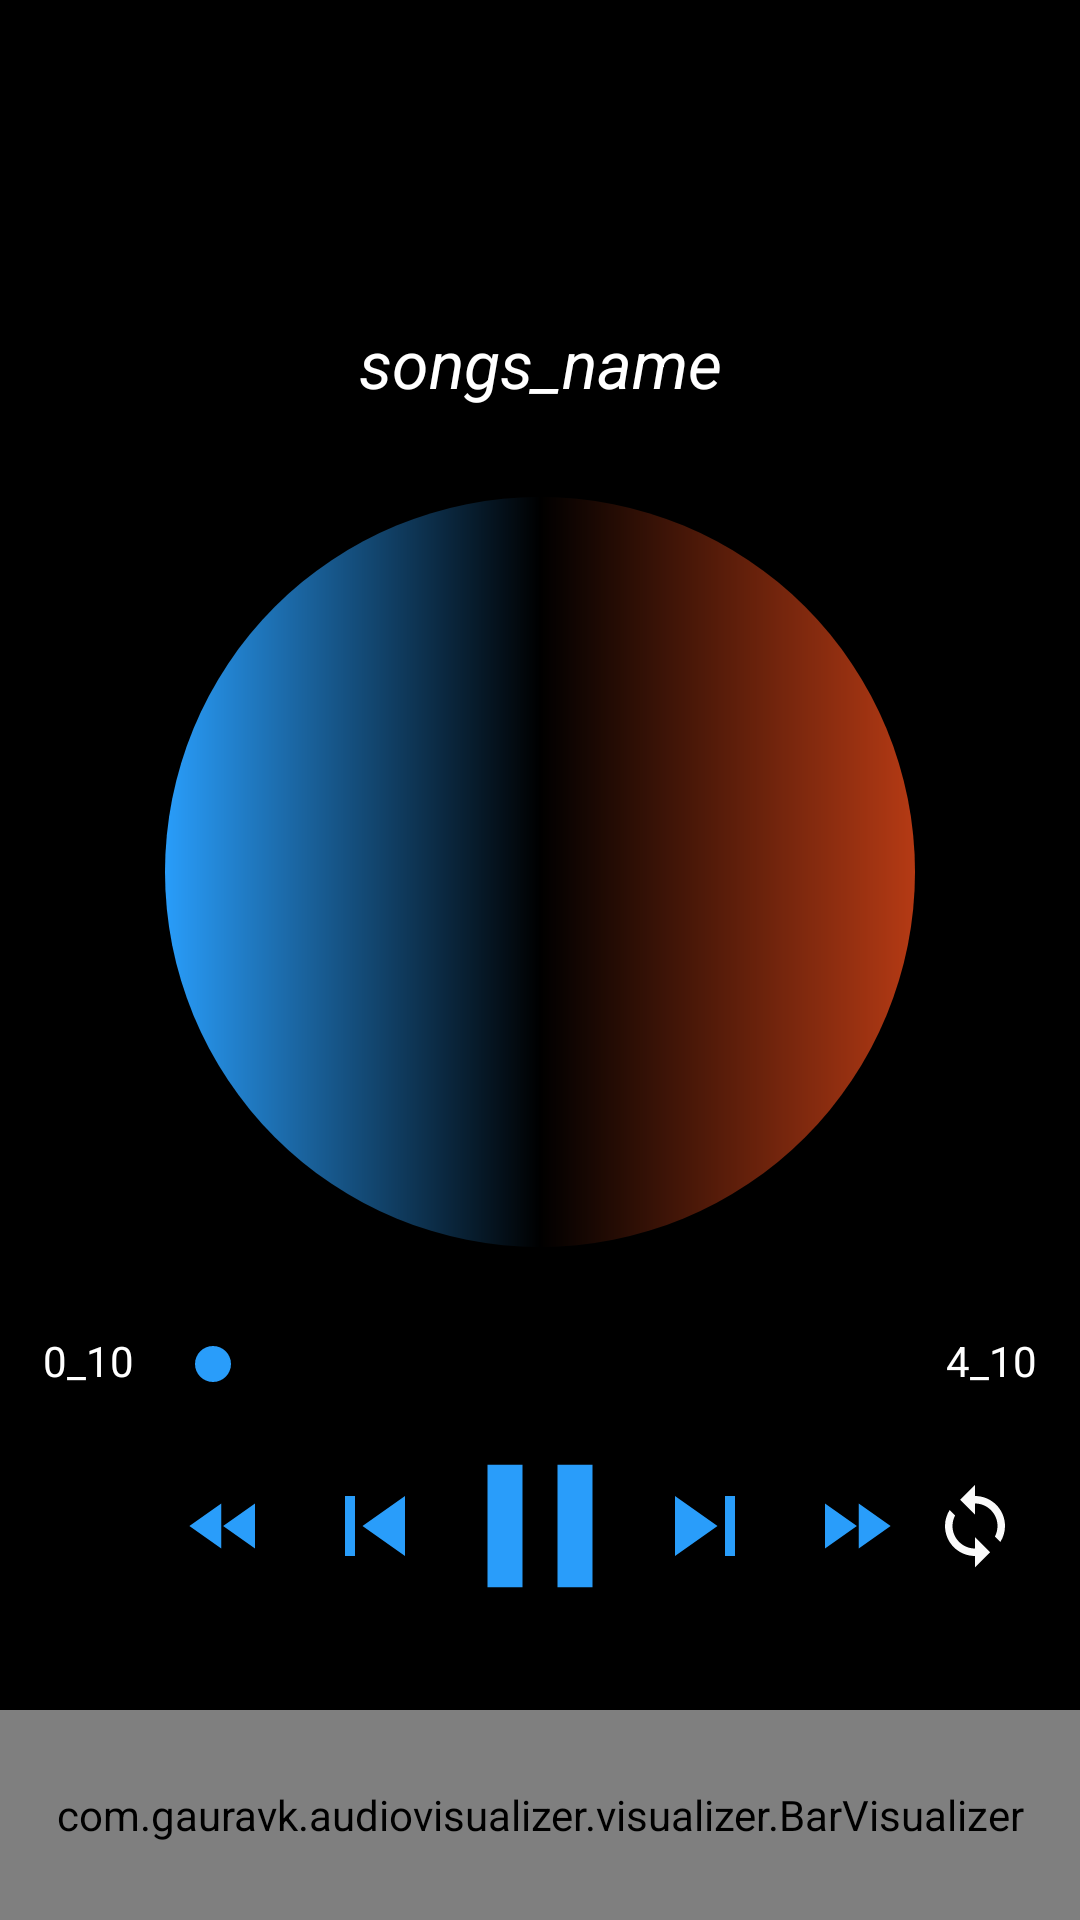

Icon bounding boxes for this 1080w x 1920h phone screenshot, format (x1, y1, x2, y2):
loop off: (945, 1485, 1005, 1567)
next: (675, 1496, 735, 1556)
pause: (487, 1464, 593, 1588)
previous: (345, 1496, 405, 1556)
